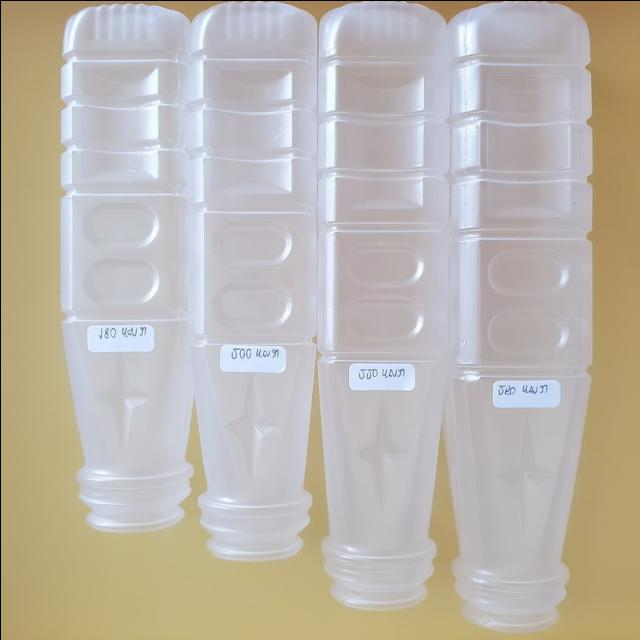plastik: (444, 2, 590, 630), (317, 0, 449, 608), (190, 1, 315, 560), (60, 4, 192, 531)
